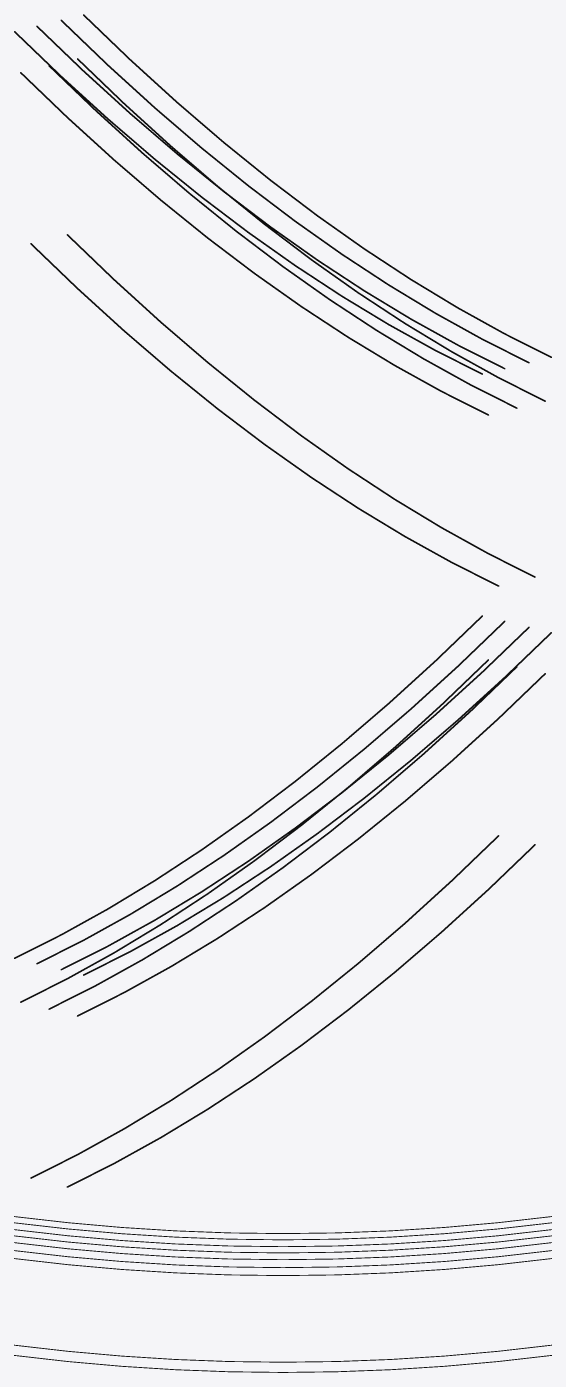
File: wire_set_20m.glb
The picture shows the model from 3 angles, top to bottom: view 1: azimuth 30°, elevation 25°; view 2: azimuth 150°, elevation 25°; view 3: azimuth 270°, elevation 25°; orthographic projection. The views are drawn at different scales.
Visible parts, largest first — view 1: wire_set_20m; view 2: wire_set_20m; view 3: wire_set_20m.
Part boxes in pixels (x1,y1,x2,y2): wire_set_20m: (14, 14, 551, 586); wire_set_20m: (14, 615, 551, 1187); wire_set_20m: (14, 1216, 551, 1372).
Size of the model in its own units: 1.73 by 5.81 by 20.
1 material, 1 textured.
